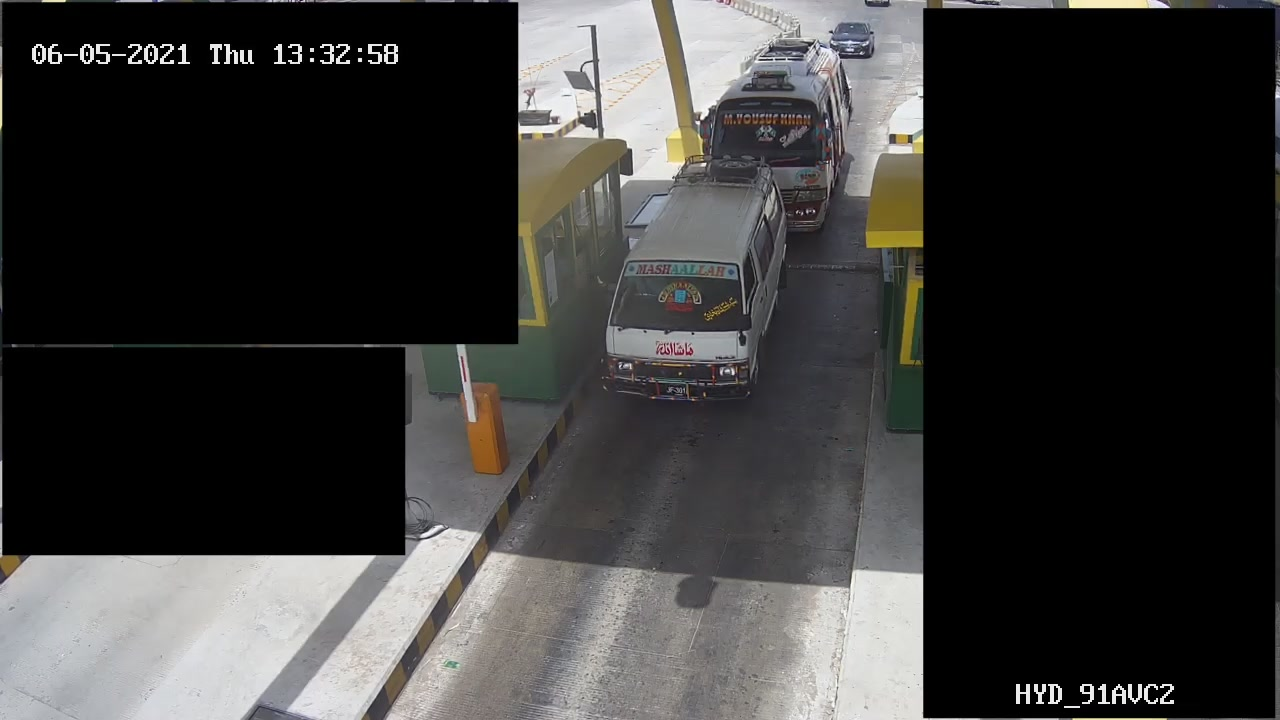F2: (593, 148, 795, 420)
